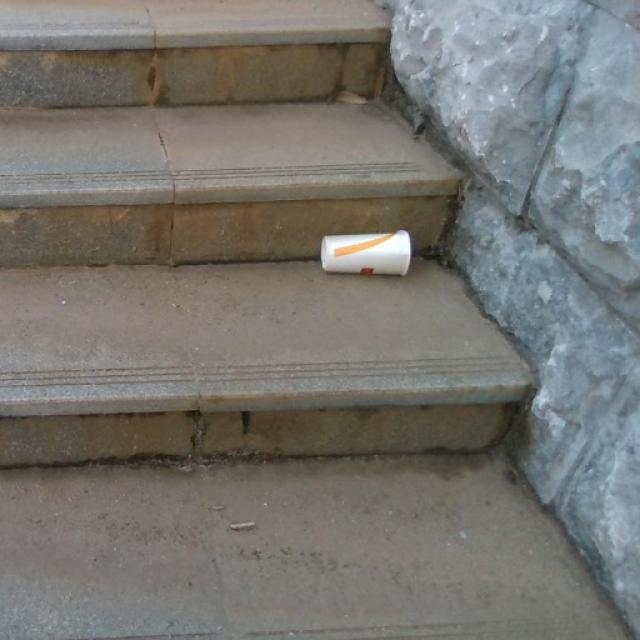Stairs: (0, 0, 535, 468)
